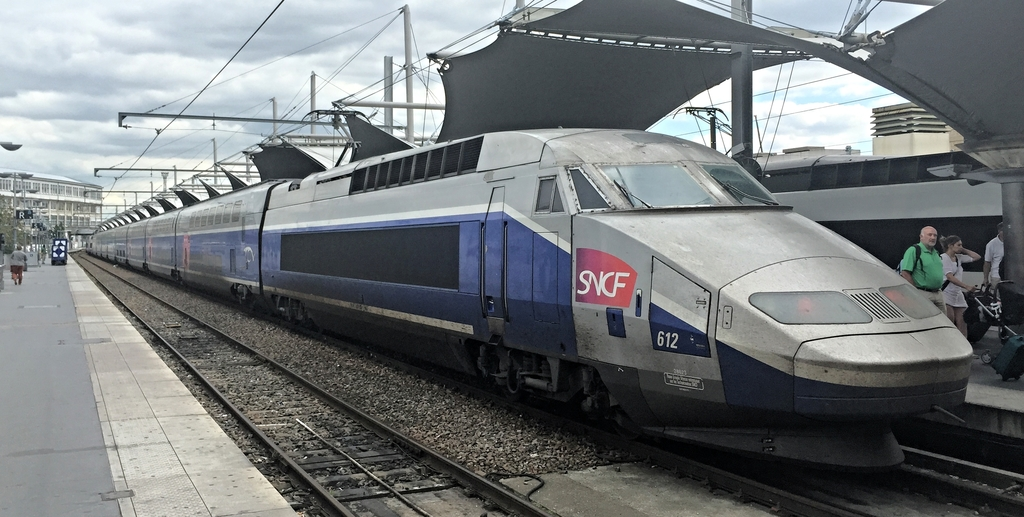Person: (897, 224, 946, 315), (943, 232, 982, 338), (980, 218, 1012, 337), (9, 243, 27, 285)
